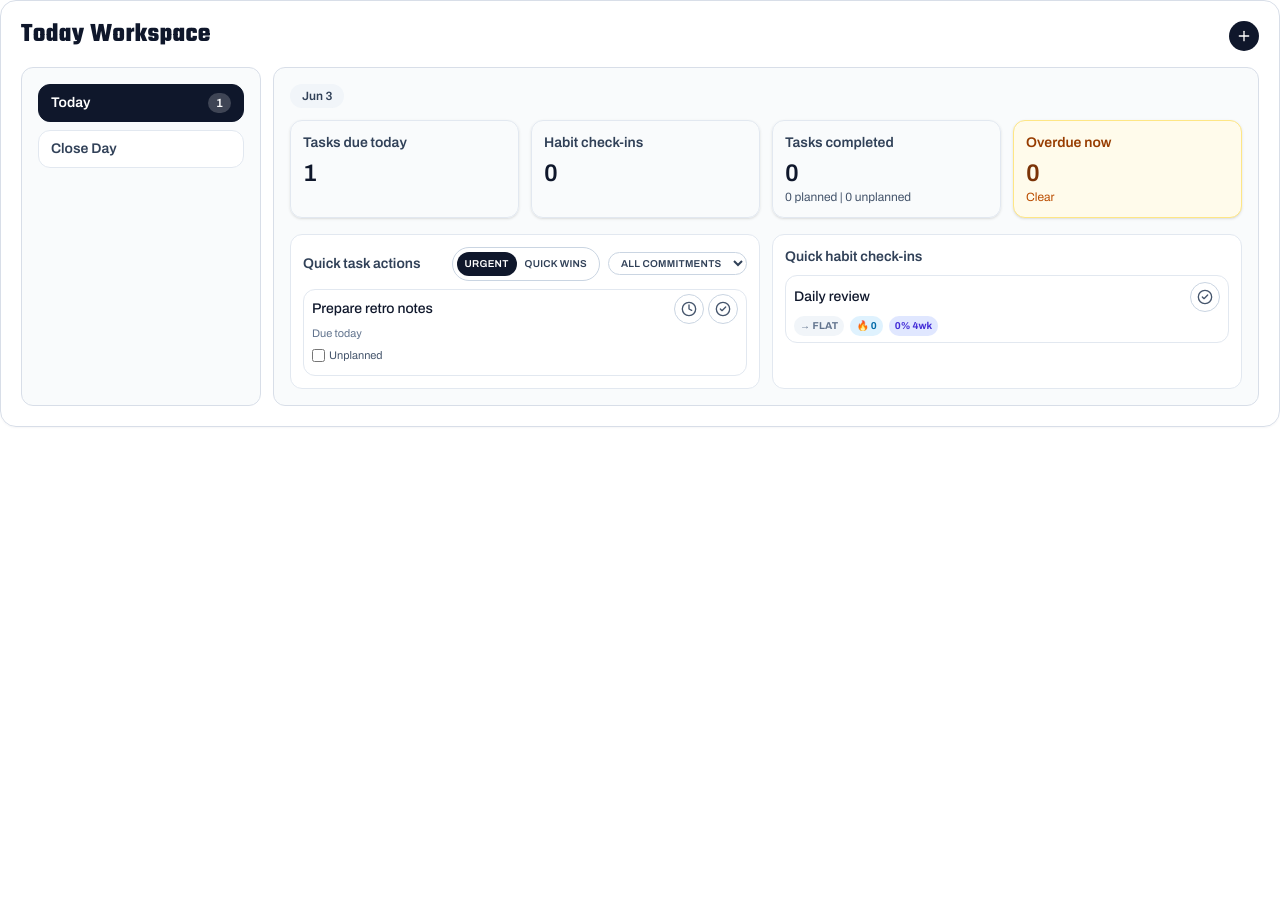
Test: dashboard insights command center › opens quick task modal from the today queue
The width and height of the screenshot is (1280, 900).
Click the button with test id "^quick-task-title-" at (372, 308), box 312,299 -> 666,319
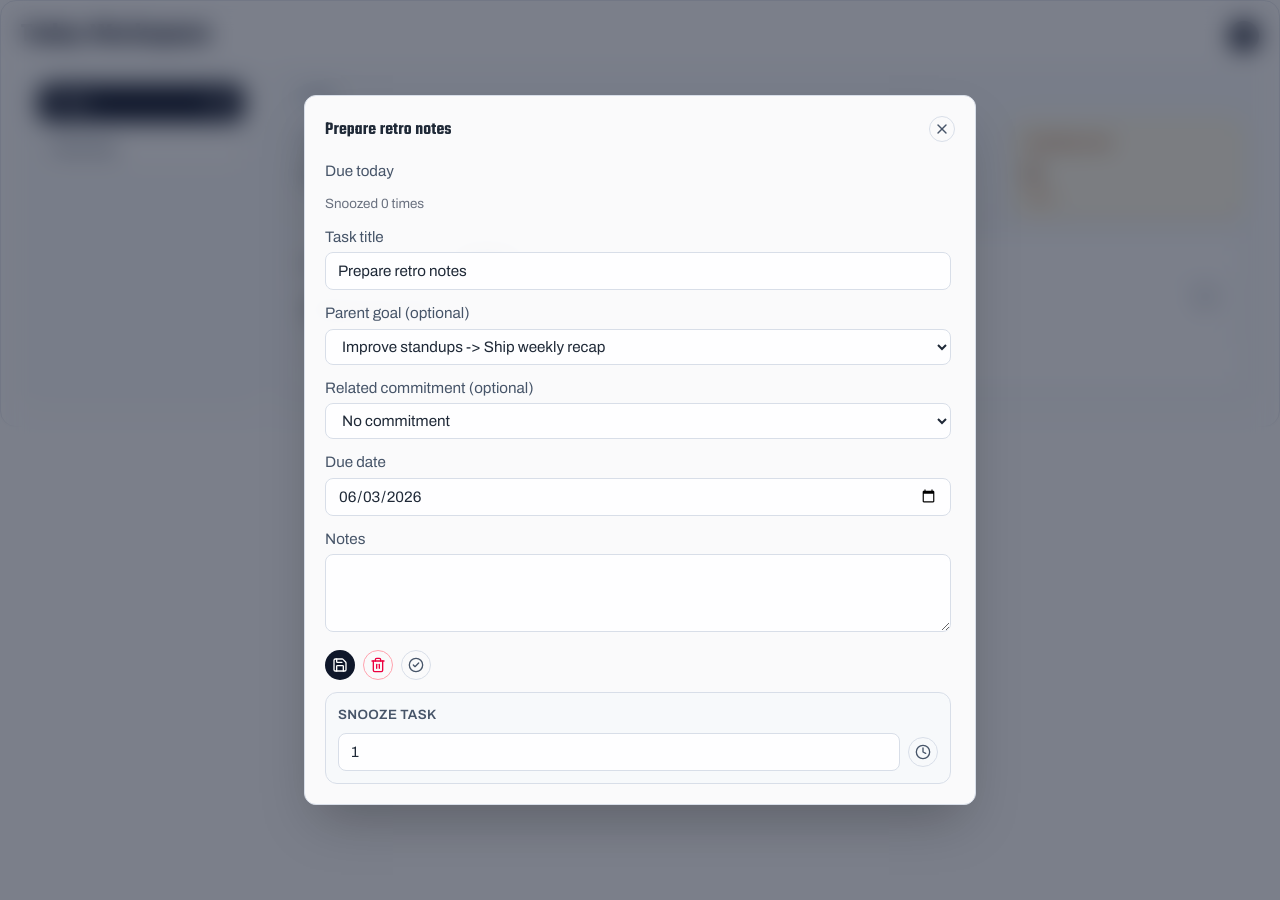
Now the text "Snooze task" is shown, box 338,707 -> 437,722
